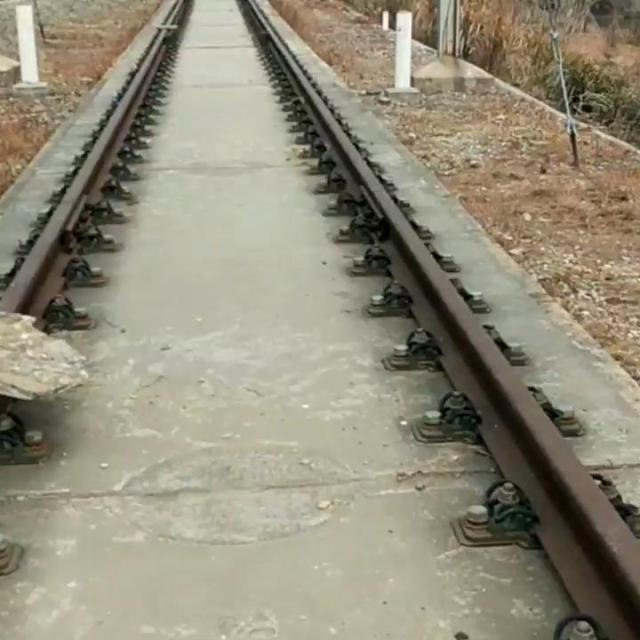rail: (242, 1, 640, 635), (1, 31, 176, 331), (164, 1, 195, 22)
